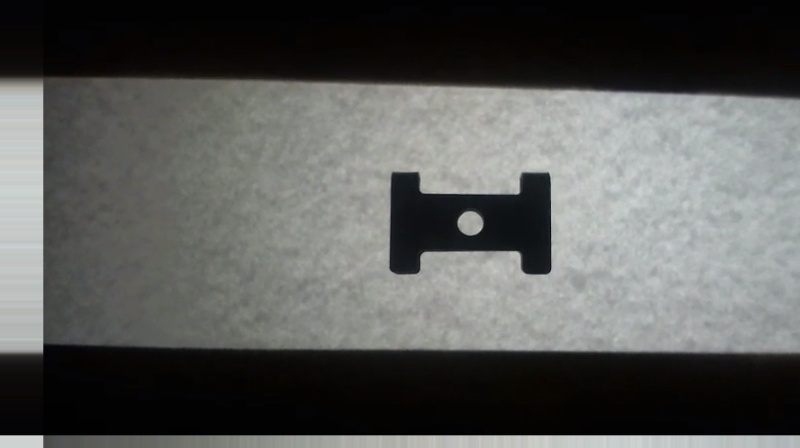O002: (385, 169, 554, 277)
